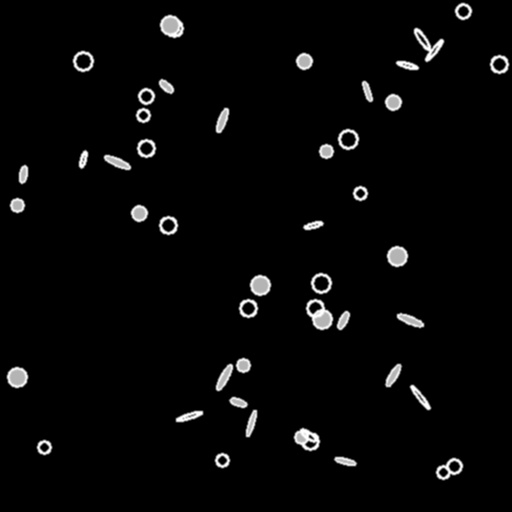pseudomonas: (214, 363, 234, 391), (409, 385, 431, 409), (424, 38, 444, 62), (412, 27, 432, 51), (384, 363, 402, 387), (397, 312, 423, 328), (104, 154, 130, 170), (214, 107, 230, 133), (298, 427, 318, 443), (176, 410, 202, 422), (245, 410, 257, 436), (336, 310, 350, 330), (158, 78, 174, 94), (361, 81, 373, 101), (334, 456, 356, 466), (229, 396, 247, 408), (397, 60, 417, 70), (78, 150, 88, 168), (18, 165, 28, 183), (304, 220, 322, 230)
synechocystis: (74, 52, 92, 70), (388, 247, 406, 265), (313, 310, 331, 328), (8, 368, 26, 386), (312, 274, 330, 292), (161, 16, 179, 34), (251, 276, 269, 294), (339, 130, 357, 148), (302, 433, 318, 449), (307, 300, 323, 316), (491, 56, 507, 72), (166, 20, 182, 36), (240, 300, 256, 316), (160, 217, 176, 233), (138, 140, 154, 156), (297, 54, 311, 68), (456, 4, 470, 18), (386, 95, 400, 109), (447, 459, 461, 473), (132, 206, 146, 220), (139, 89, 153, 103), (216, 454, 228, 466), (137, 109, 149, 121), (320, 145, 332, 157), (437, 466, 449, 478), (11, 199, 23, 211), (237, 359, 249, 371), (295, 431, 307, 443), (38, 441, 50, 453), (354, 187, 366, 199)
